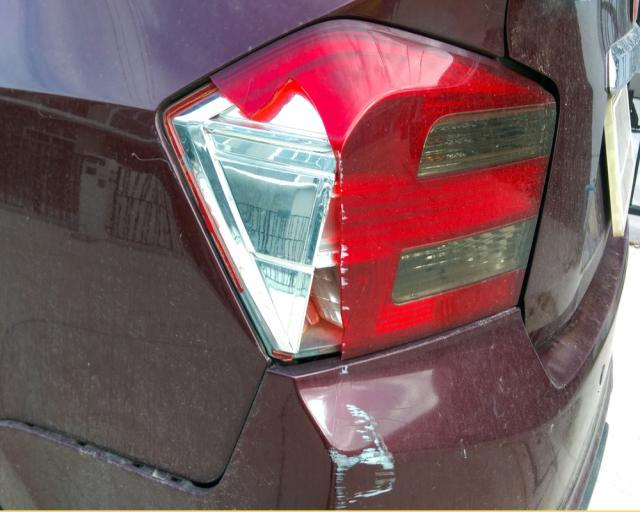lamp broken: (163, 17, 559, 365)
scratch: (327, 392, 401, 512)
